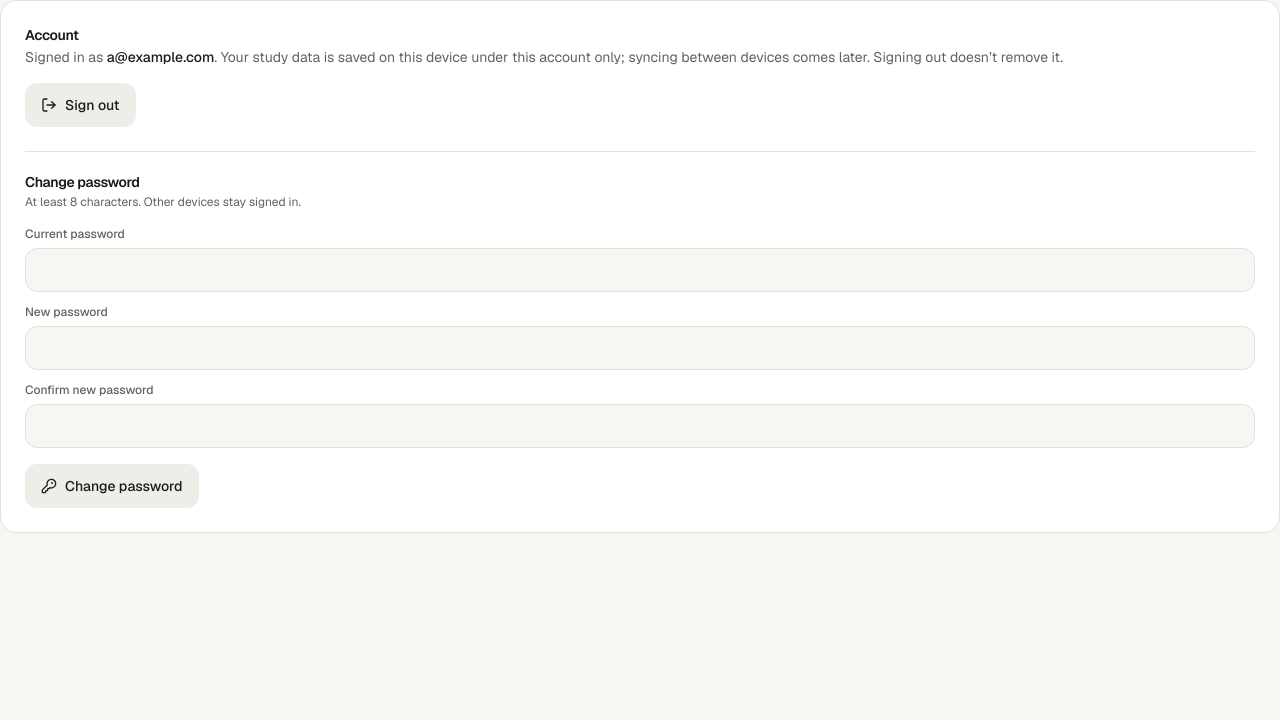
it: change password › checks the current password, sets the new one, and clears the form
The width and height of the screenshot is (1280, 720).
Step 1. Type "old-password" into the password field labelled "Current password" → (640, 270), box [25, 248, 1255, 292]
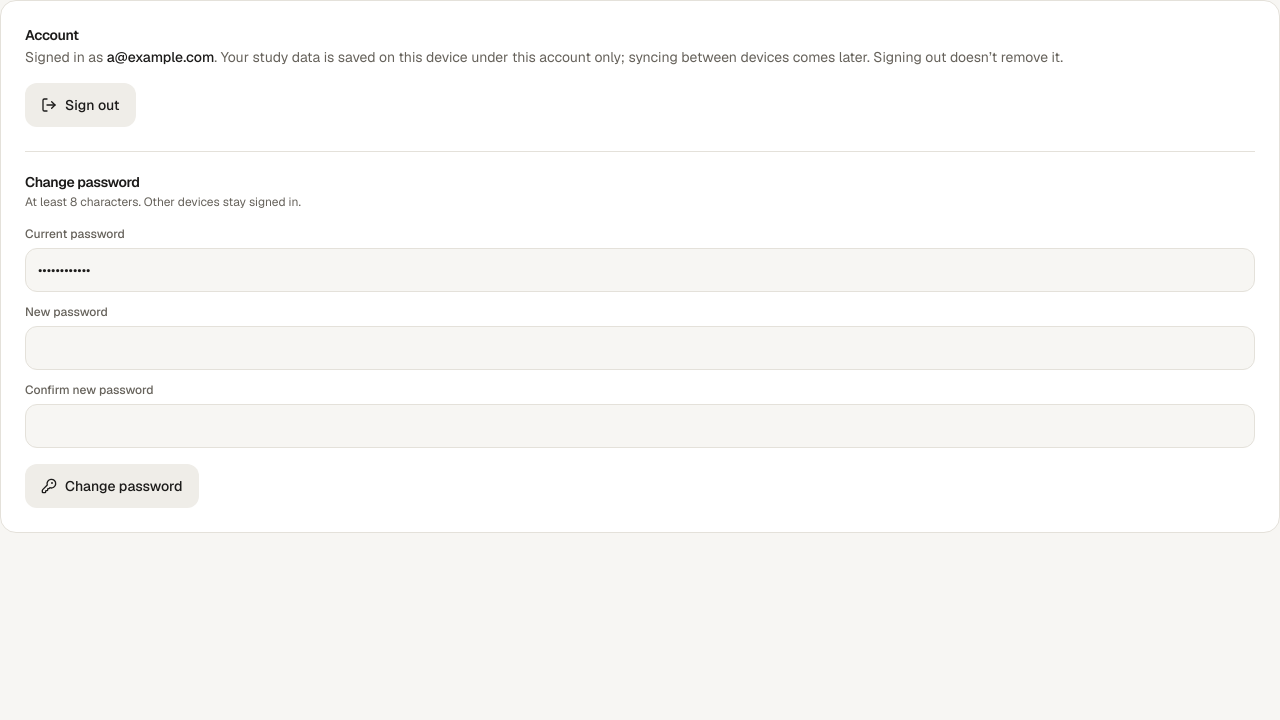
Step 2. Type "new-password-1" into the password field labelled "New password" → (640, 348), box [25, 326, 1255, 370]
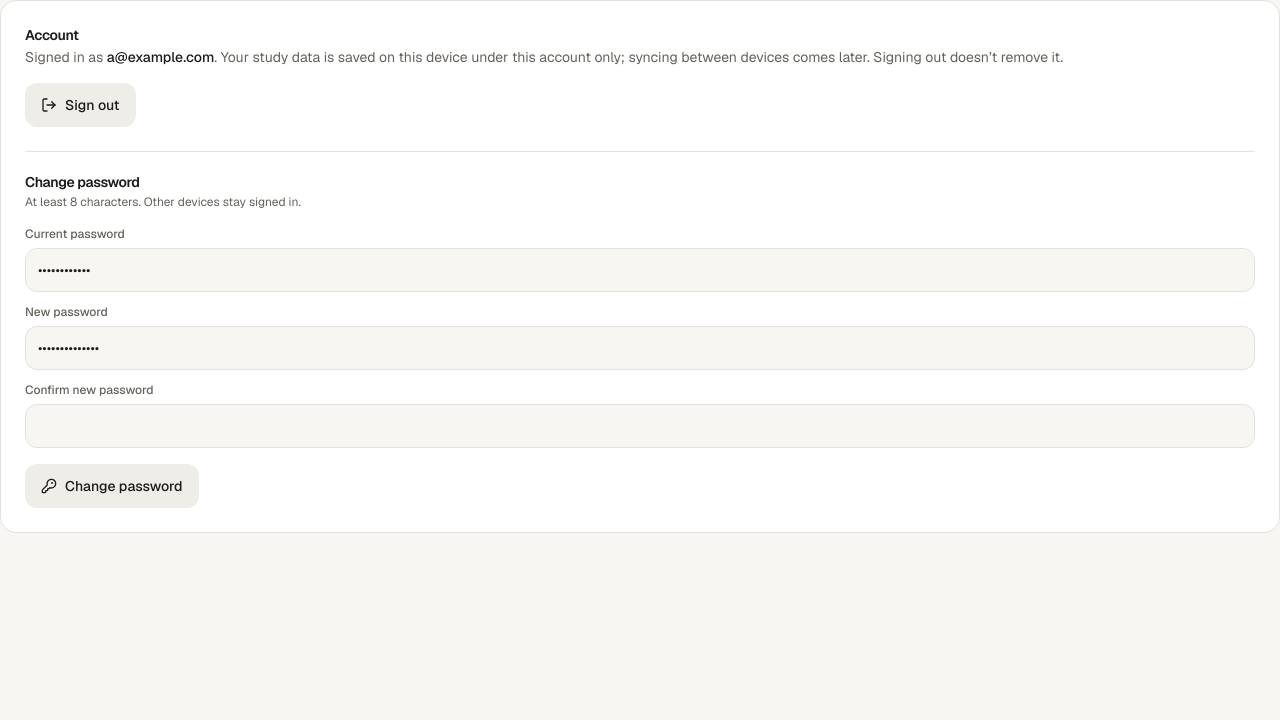
Step 3. Type "new-password-1" into the password field labelled "Confirm new password" → (640, 426), box [25, 404, 1255, 448]
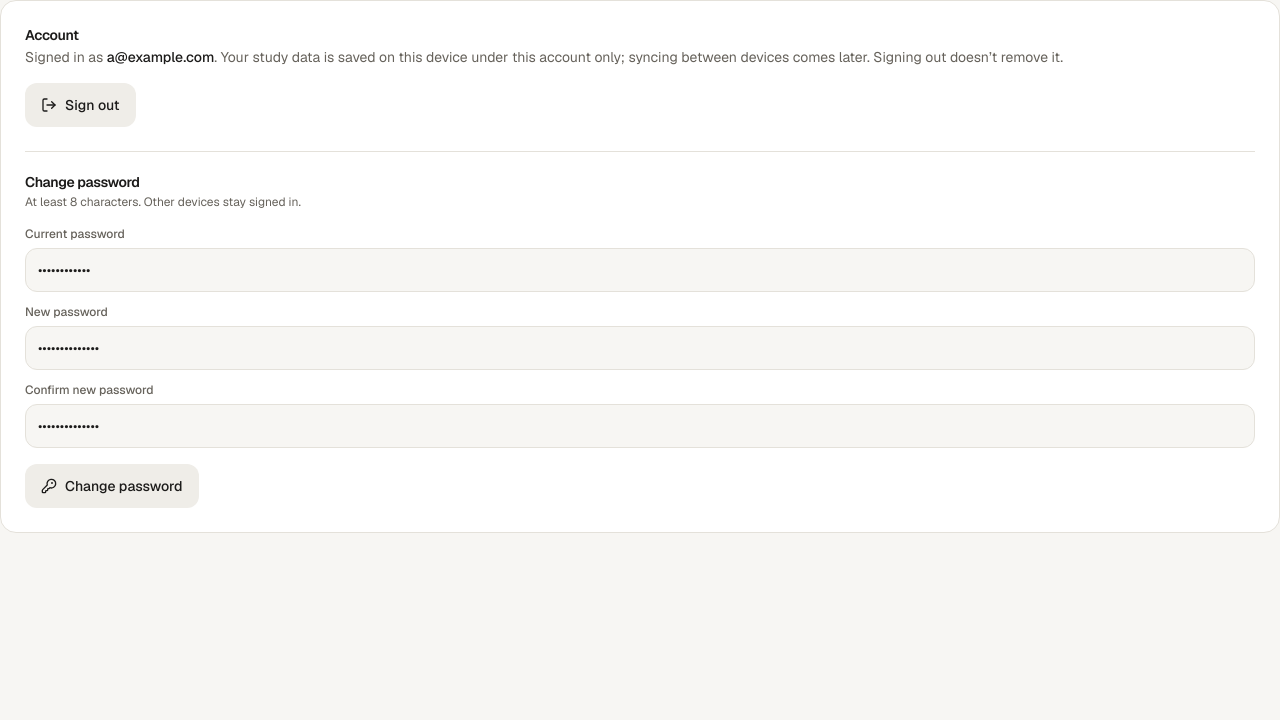
Step 4. Click the button "Change password" → click(112, 486), box [25, 464, 198, 508]
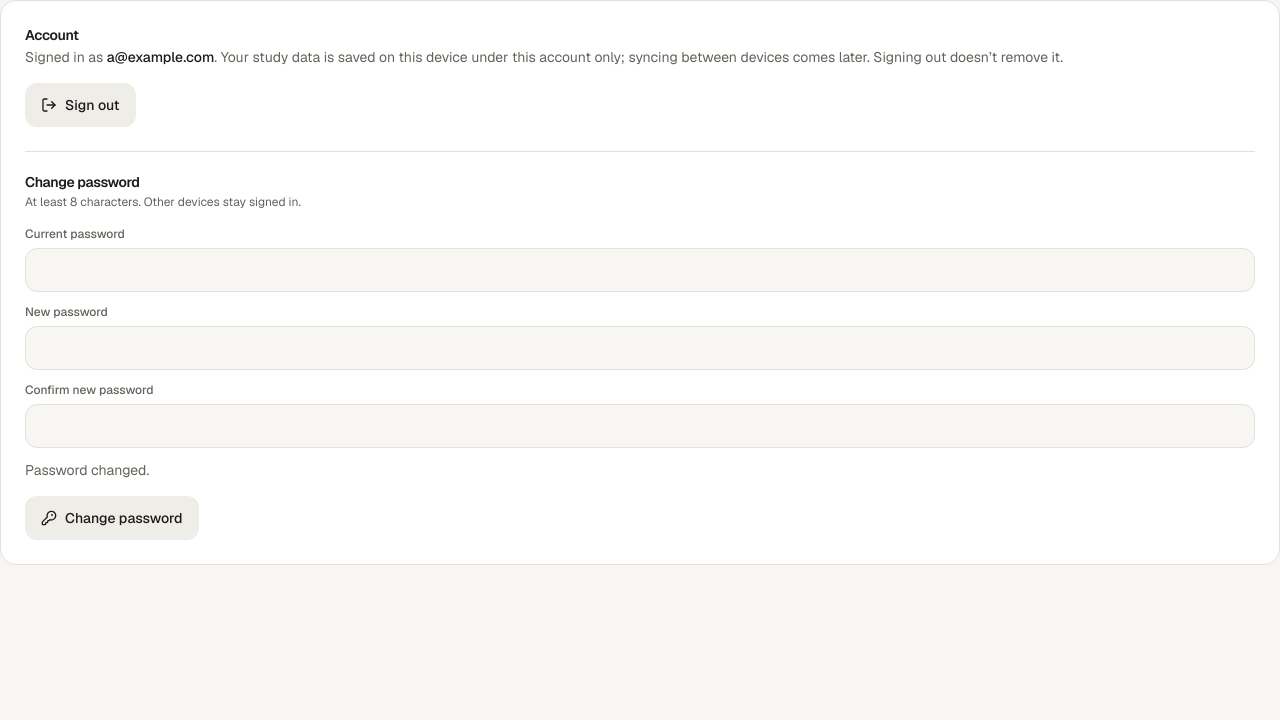
Expected: the text "Password changed." is shown, [25, 461, 149, 479]
Expected: the password field labelled "Current password" is empty, [25, 248, 1255, 292]
